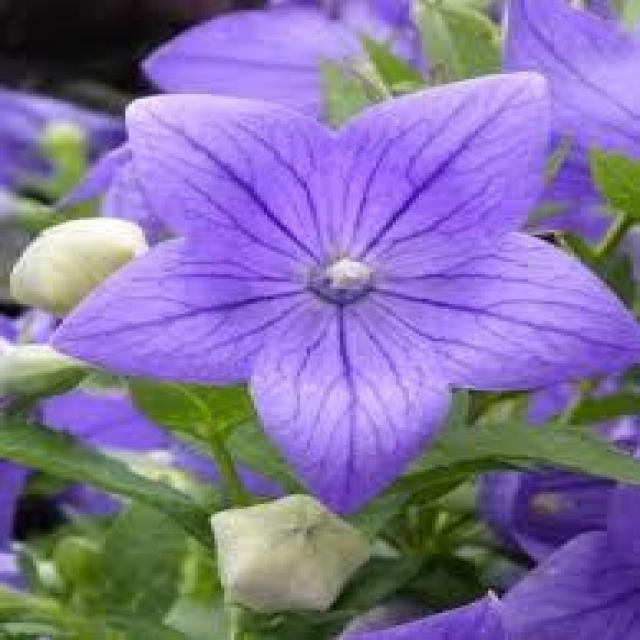organic waste: (34, 70, 628, 493)
